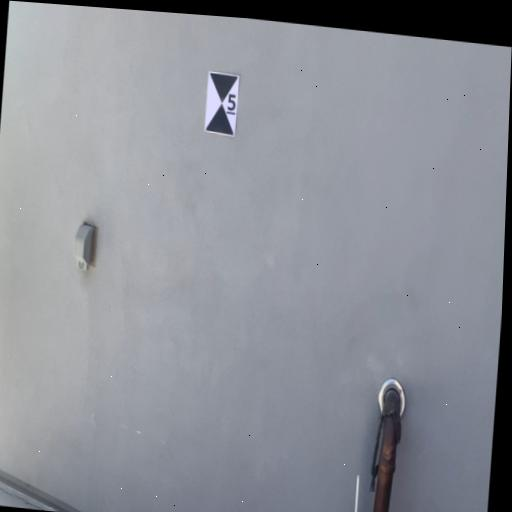target5: (204, 70, 240, 136)
